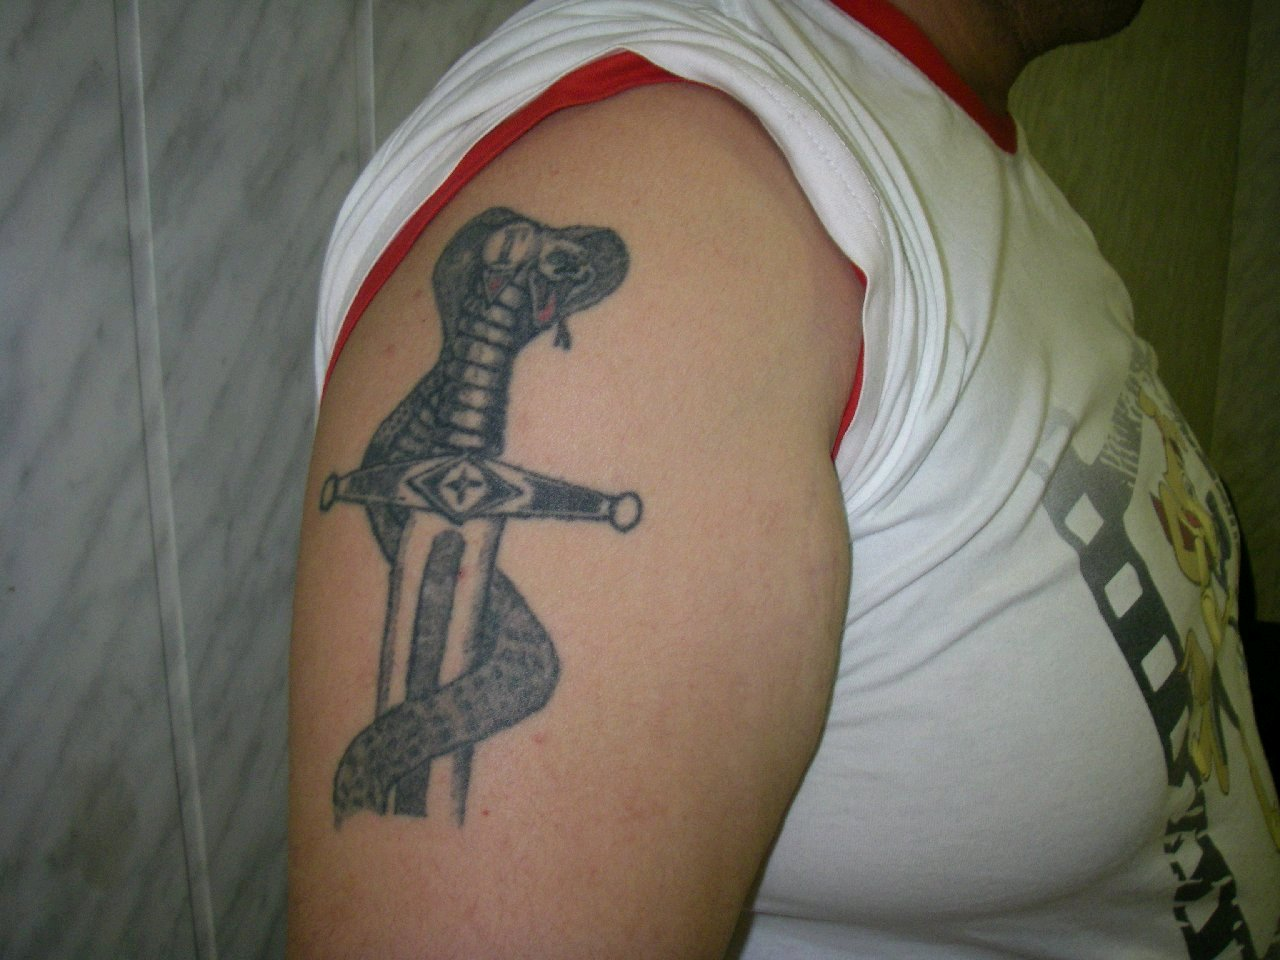tatu7_zmeya: (321, 168, 659, 868)
